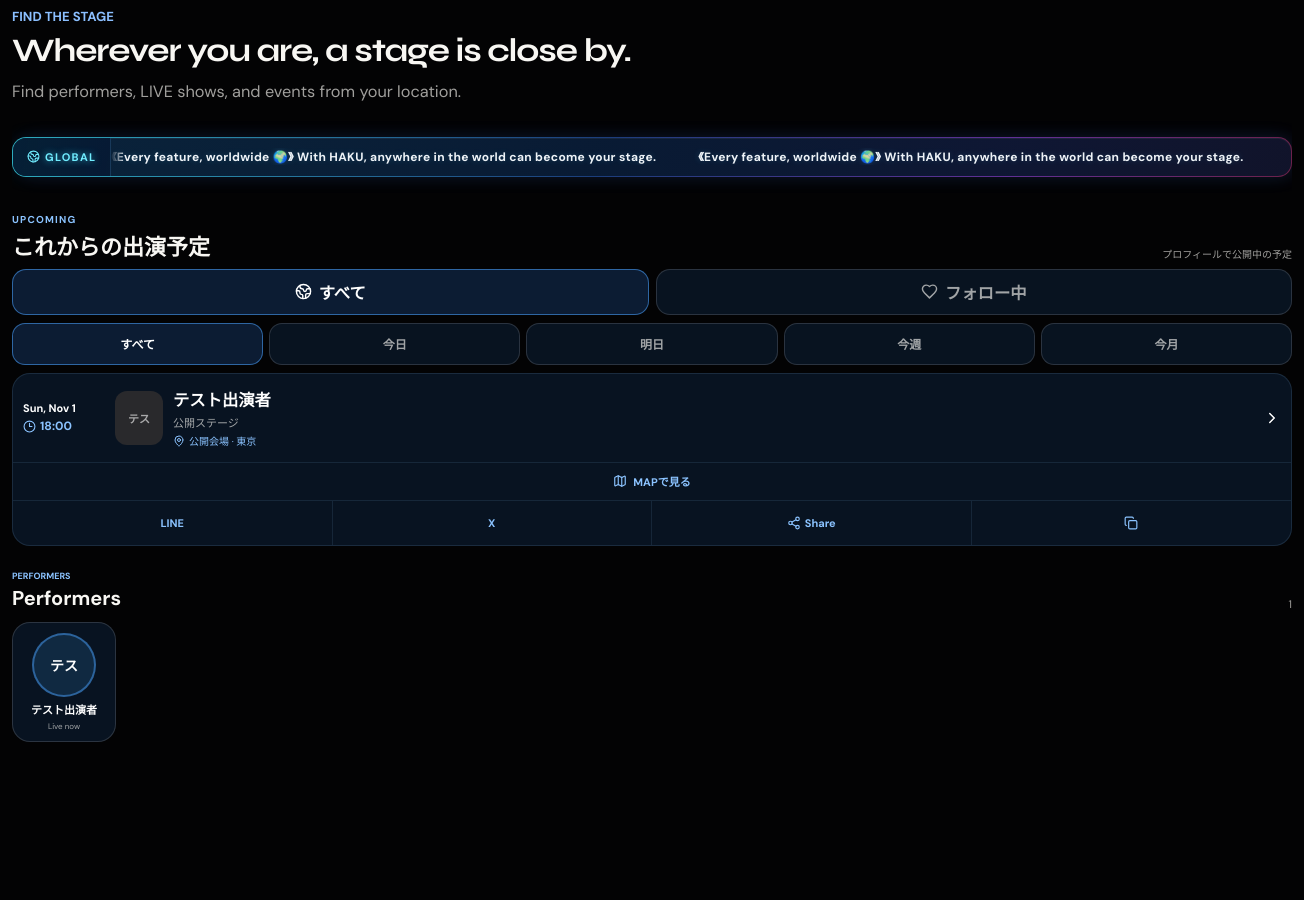
shows a login guide for the following mode when signed out
This screenshot has width=1304, height=900.
Check: the text "公開ステージ" is shown, box x1=173 y1=416 x2=239 y2=430
Click the tab "フォロー中". click: (974, 292)
box: x1=656 y1=269 x2=1292 y2=315
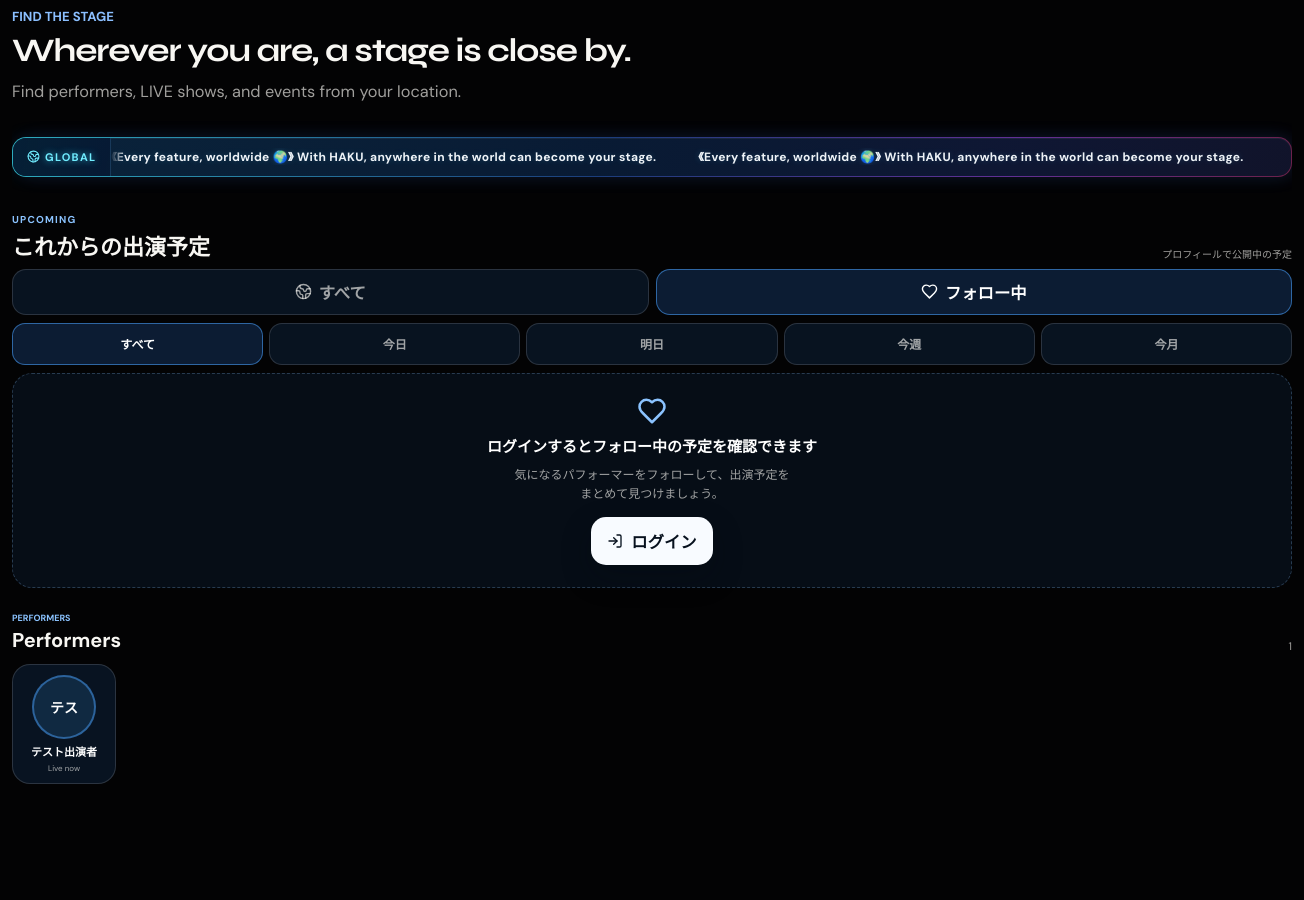
Check: the text "ログインするとフォロー中の予定を確認できます" is shown, box x1=487 y1=435 x2=817 y2=457
Check: the button "ログイン" is shown, box x1=591 y1=517 x2=713 y2=565
